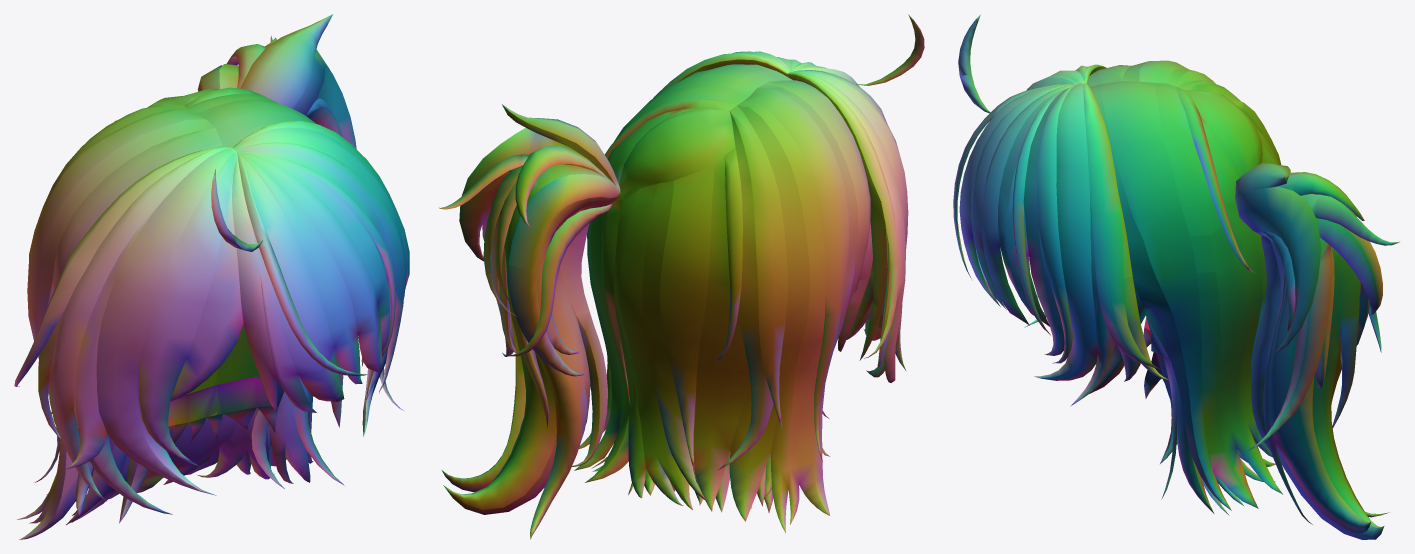
File: Hair.fbx
3 views of the same model, side by side, from view 1: azimuth 30°, elevation 25°; view 2: azimuth 150°, elevation 25°; view 3: azimuth 270°, elevation 25° (orthographic). The views are drawn at different scales.
Visible parts, largest first — view 1: Front_Hair, Back_Hair; view 2: Back_Hair, Front_Hair; view 3: Back_Hair, Front_Hair.
Boxes of the visible parts, <box> form: Front_Hair: <box>14,121,409,514</box>; Back_Hair: <box>17,14,356,539</box>; Back_Hair: <box>439,14,924,539</box>; Front_Hair: <box>653,51,908,382</box>; Back_Hair: <box>958,14,1399,539</box>; Front_Hair: <box>953,64,1171,406</box>.
Bounding box in the file's own units: 24.96 × 27.83 × 27.1.
